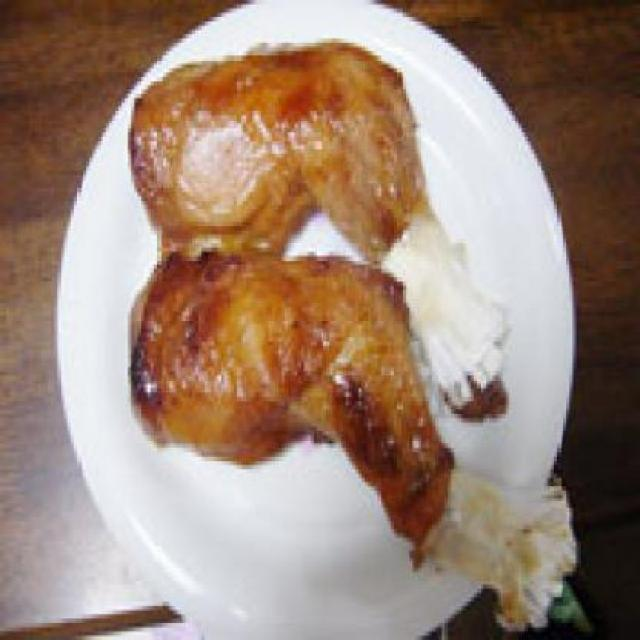Chicken roast: (124, 273, 580, 619), (134, 42, 528, 376)
